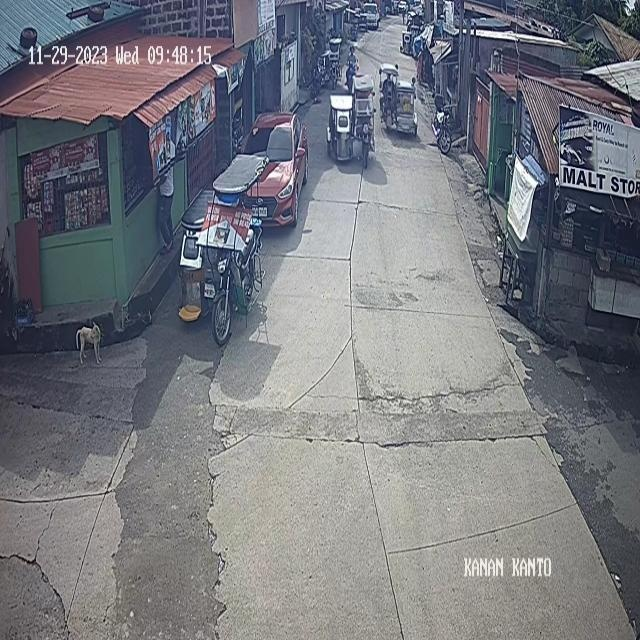Motorcycle: (432, 84, 459, 154)
